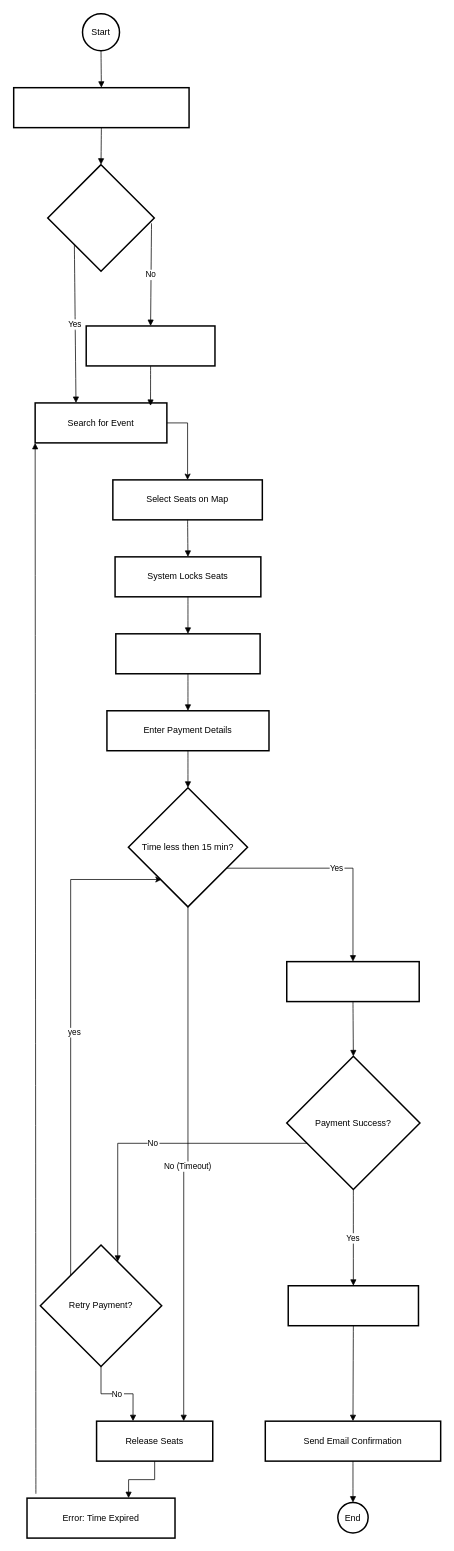
This 454x1551 diagram has some shape labels left out. Each missing label, with the centre of its shape:
"Generate Ticket" belongs at pixel 353 1305.
"Is Logged In?" belongs at pixel 101 218.
"Login / Register" belongs at pixel 150 345.
"Open Tickets.ua Website" belongs at pixel 101 107.
"Process Payment" belongs at pixel 353 981.
"Start 15-min Timer" belongs at pixel 187 653.
